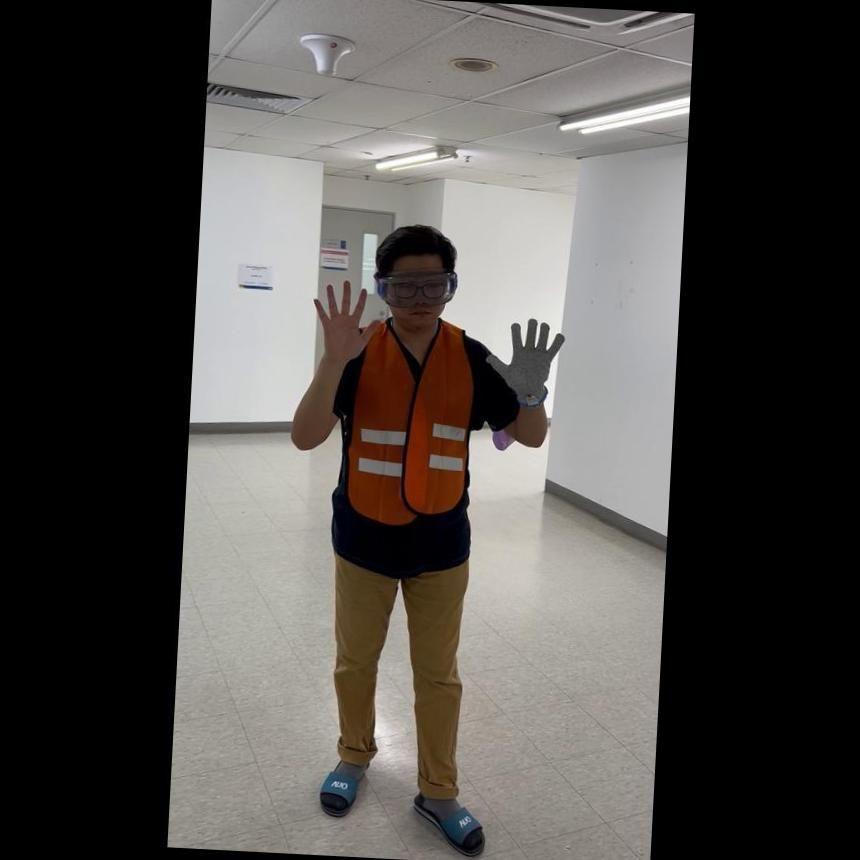Gloves: (482, 312, 565, 408)
No-gloves: (308, 274, 379, 360)
